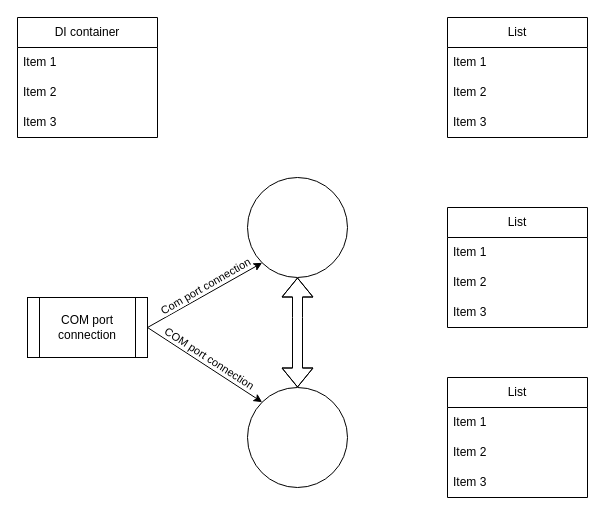
Image size: 605x515. Some labels were removed from this diagram. Here are the shapes that lost their labels. From the top down, the centre of each, then its label:
the point at 297,227: Measurement System for WEB
the point at 297,437: Measurement System for CLI
